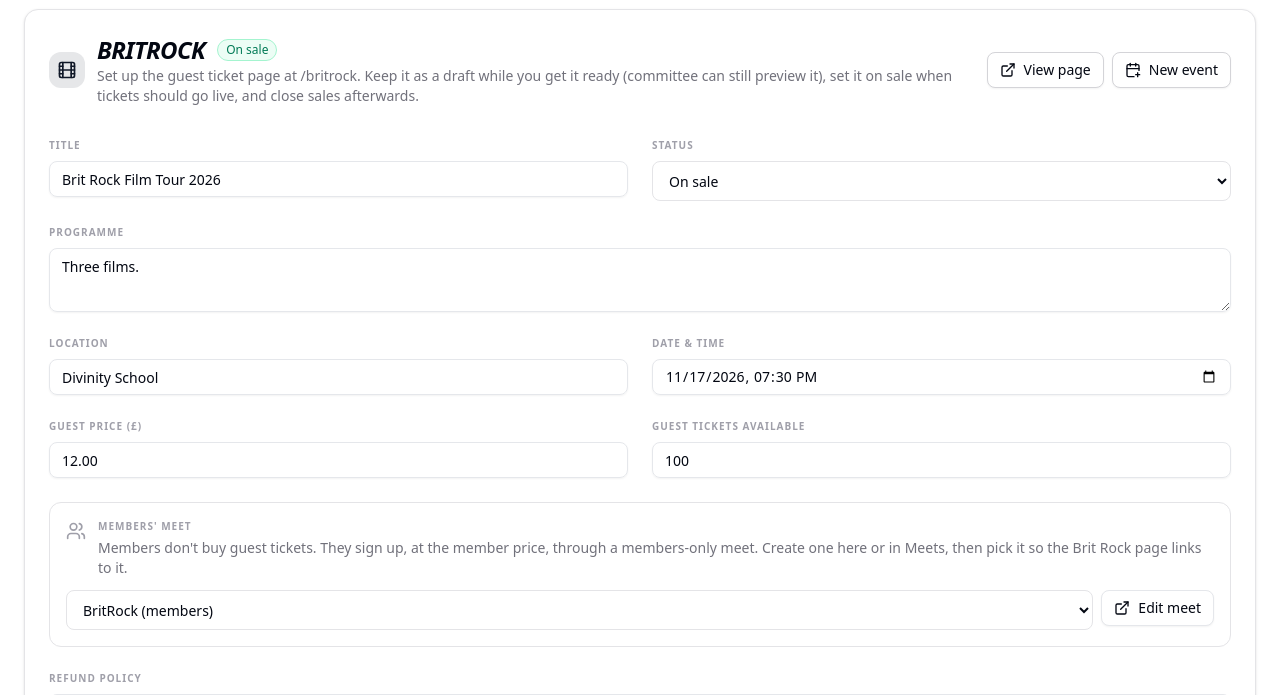
Scenario: BritRock committee page — editing › can back out of starting a new event
The width and height of the screenshot is (1280, 695).
Expected: the field labelled "Title" is shown, [49,161,628,197]
Click the button "New event" at (1171, 70), box [1112,52,1231,88]
(page scrolled)
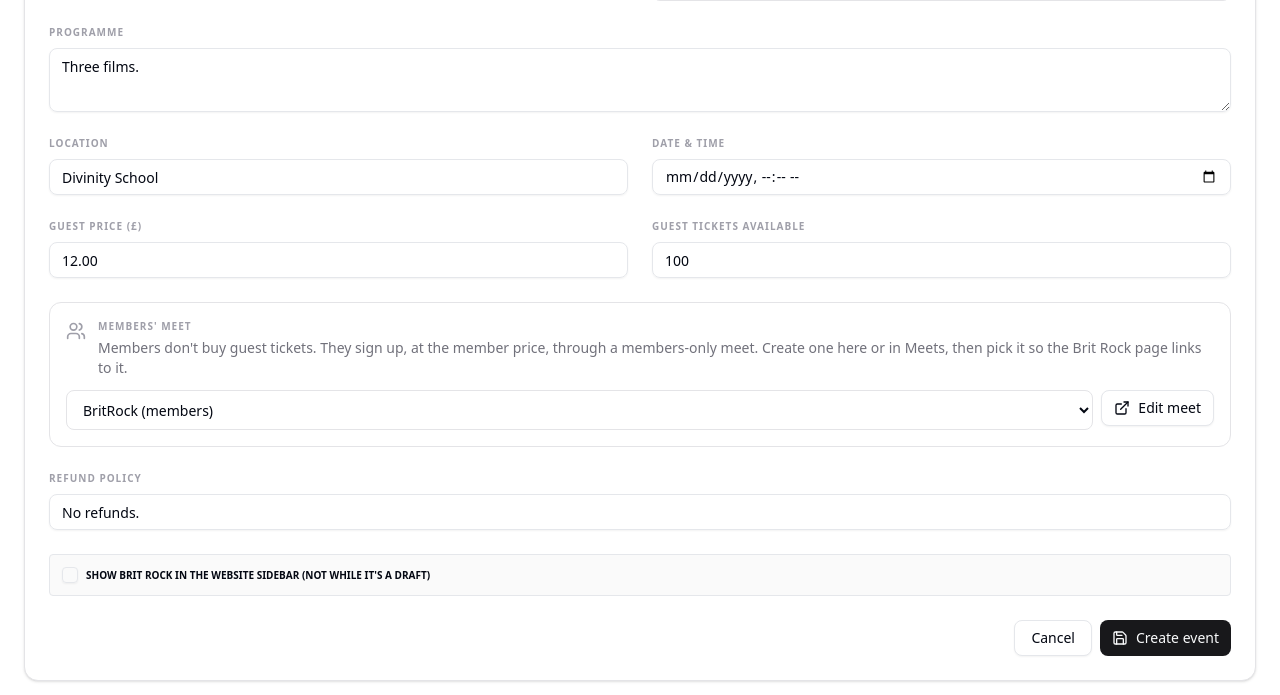
Click the button "Cancel" at (1053, 638), box [1014,620,1092,656]
(page scrolled)
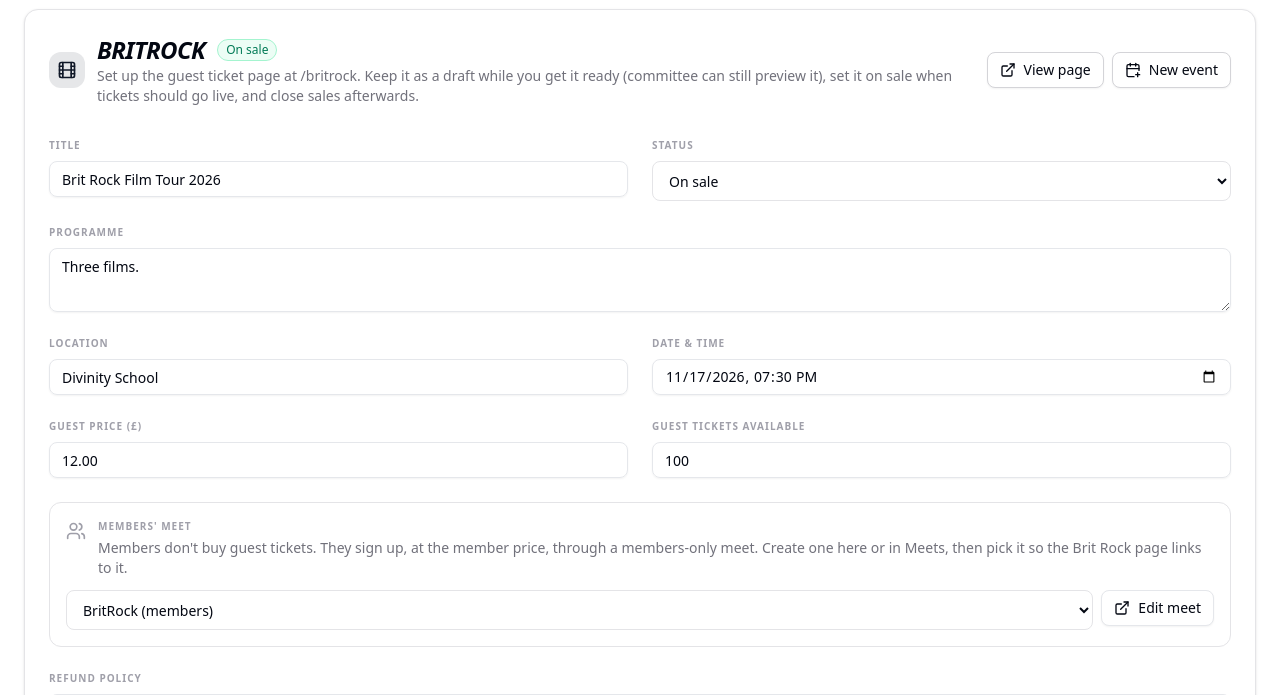
Now the dropdown labelled "Status" shows "On sale", box [652,161,1231,201]
